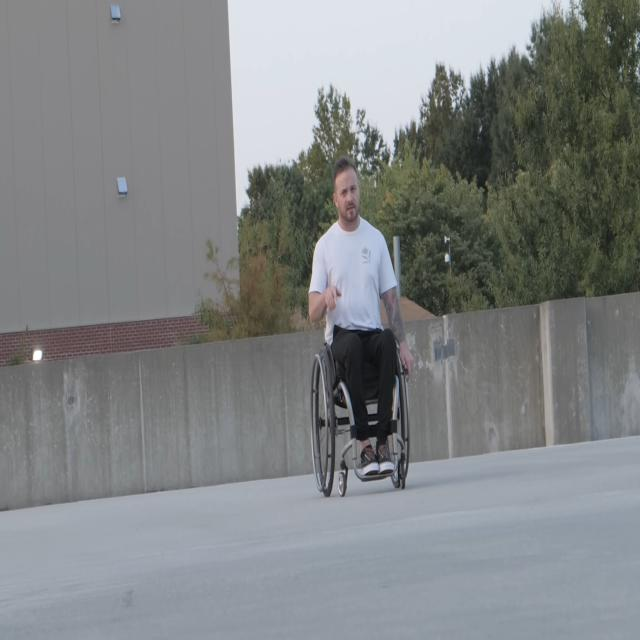wheelchairs: (311, 275, 410, 497)
